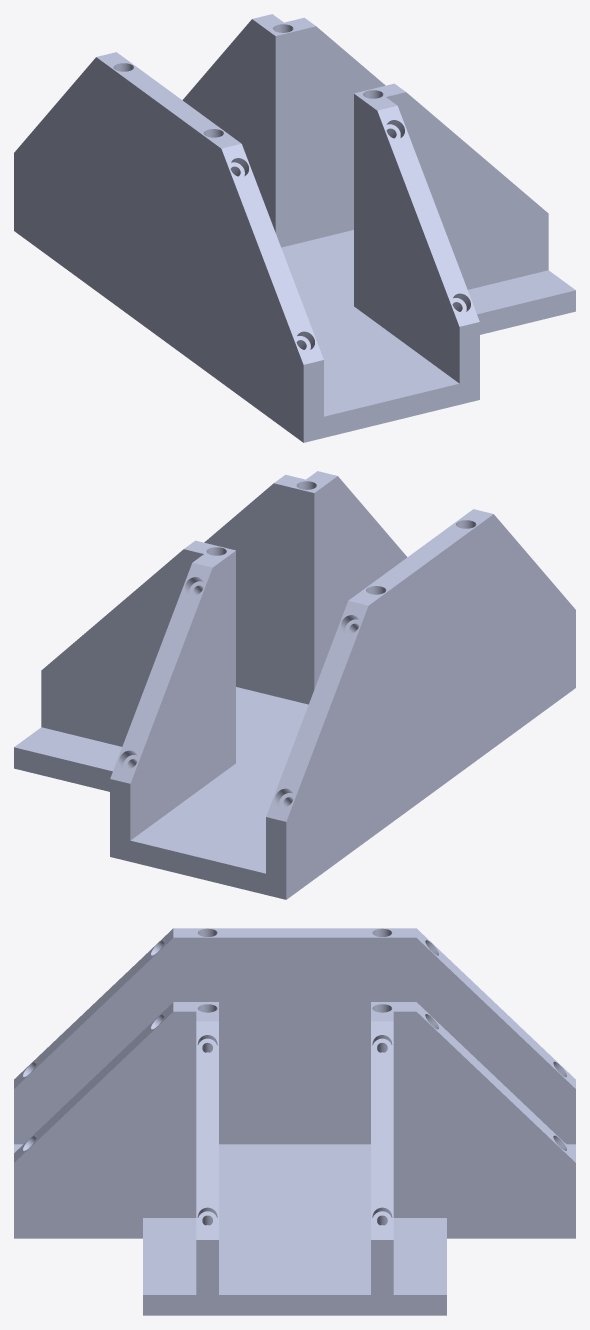
File: multi_mount.dae
3 renders of one model, top to bottom at view 1: azimuth 30°, elevation 25°; view 2: azimuth 150°, elevation 25°; view 3: azimuth 270°, elevation 25°, orthographic. The views are drawn at different scales.
Parts seen in each view (by area): view 1: ID2; view 2: ID2; view 3: ID2.
Part boxes in pixels (bbox=[...]): ID2: bbox=[14, 14, 575, 442]; ID2: bbox=[14, 471, 575, 899]; ID2: bbox=[14, 928, 575, 1315].
Size of the model in its own units: 0.25 by 0.37 by 0.165.
